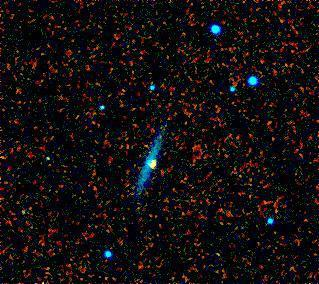star: (139, 150, 169, 180)
